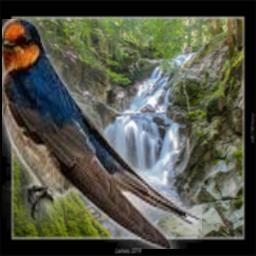Swallow: (2, 19, 202, 249)
